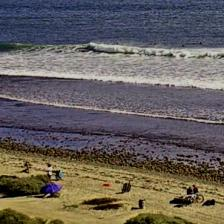surfer: (195, 42, 203, 45), (181, 44, 184, 48)
